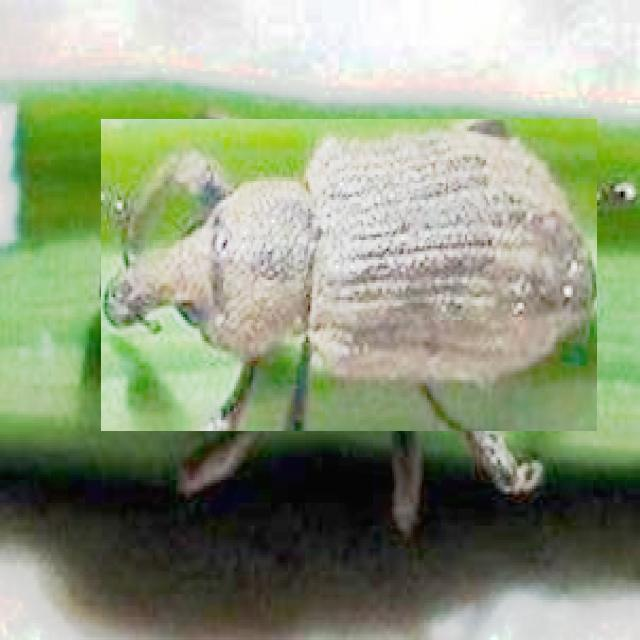rice-bug: (101, 119, 597, 431)
